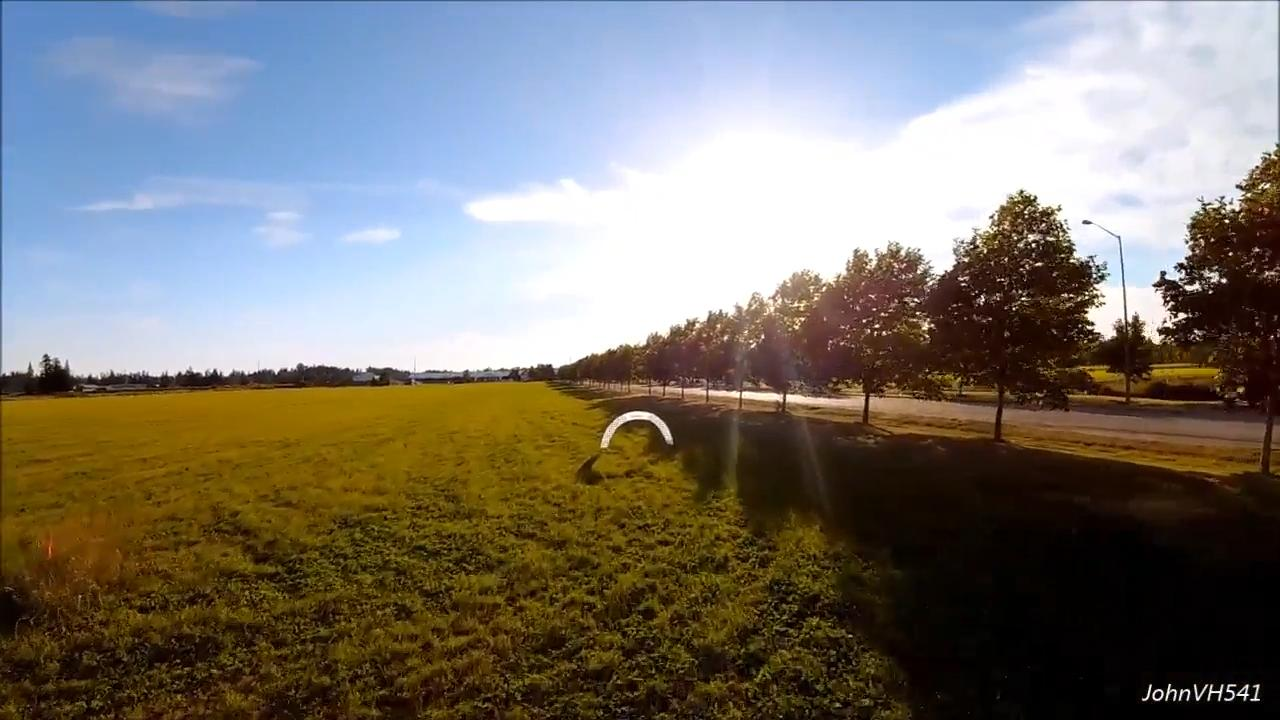gate: (601, 411, 672, 452)
